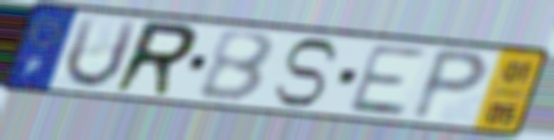B: (194, 30, 278, 105)
E: (343, 41, 429, 118)
P: (406, 45, 492, 124)
R: (108, 18, 203, 100)
S: (270, 36, 342, 110)
U: (61, 15, 143, 91)
